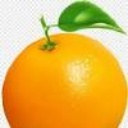orange: (3, 15, 128, 128)
